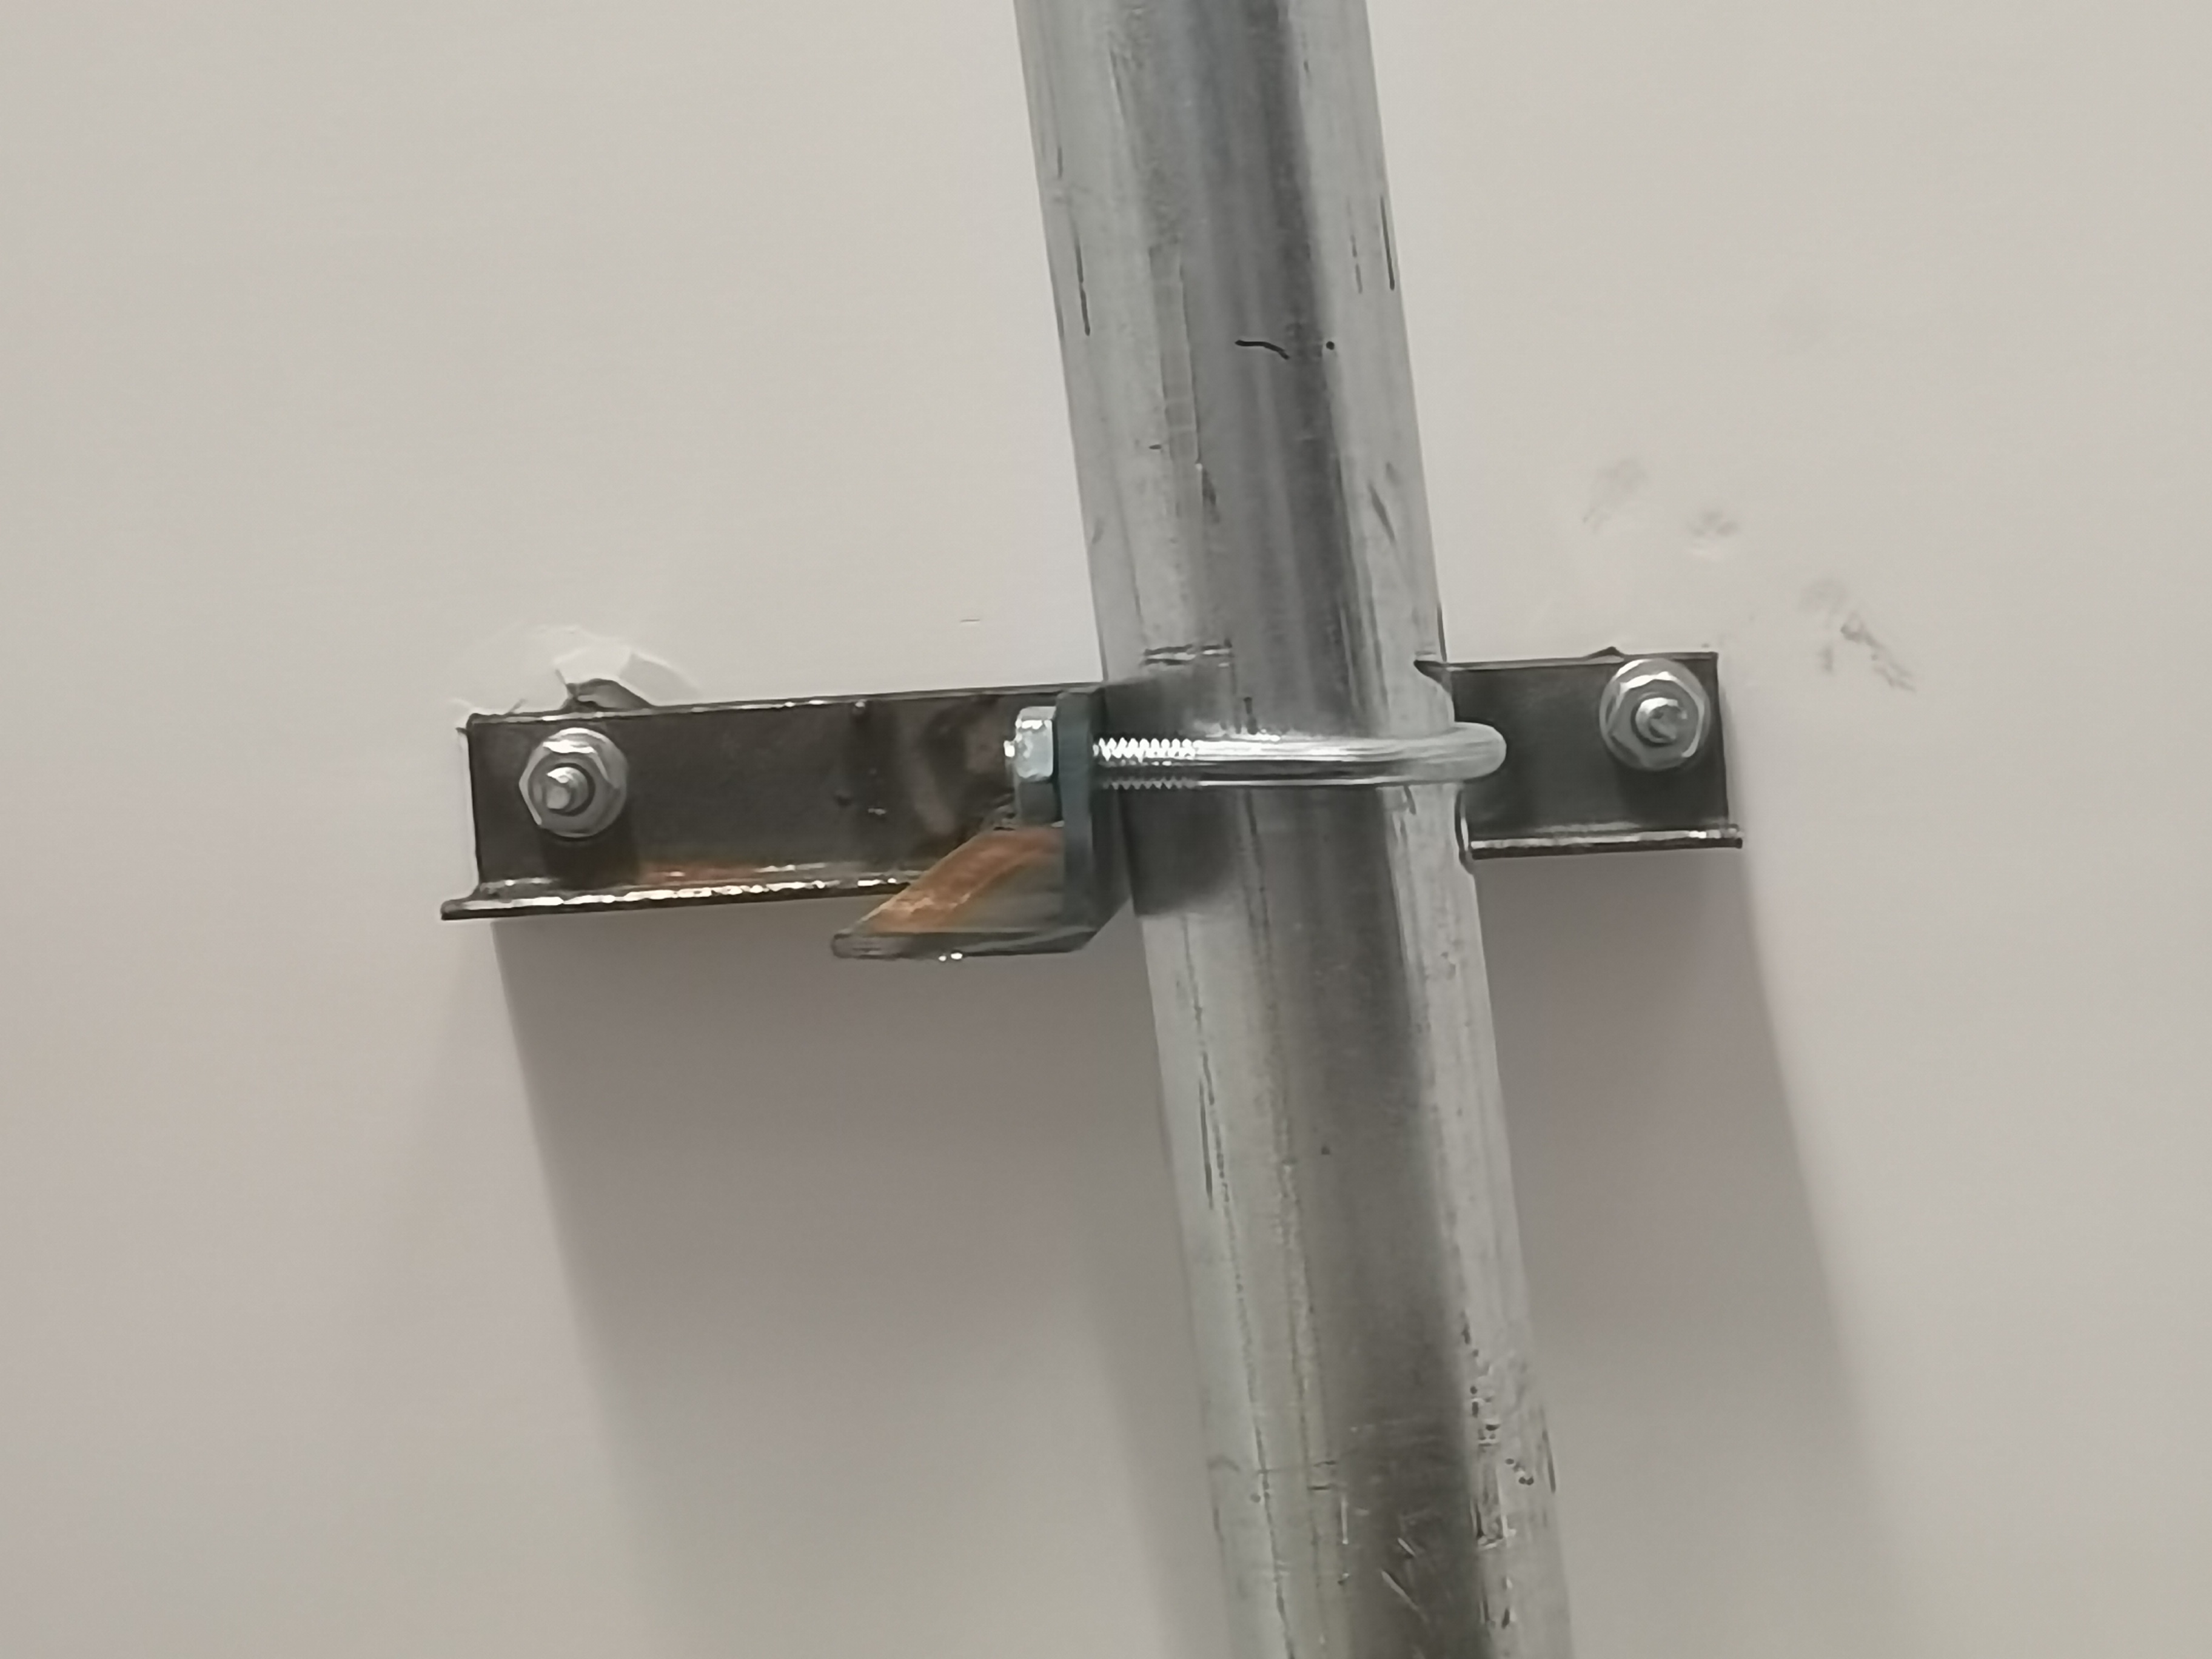bolt_b: (514, 732, 625, 842), (1599, 669, 1709, 772)
bolt_c: (993, 697, 1080, 828)
